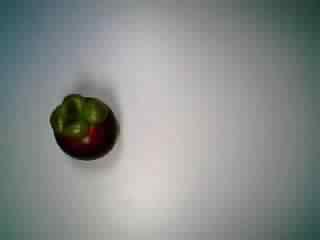mangosteen: (43, 86, 125, 163)
